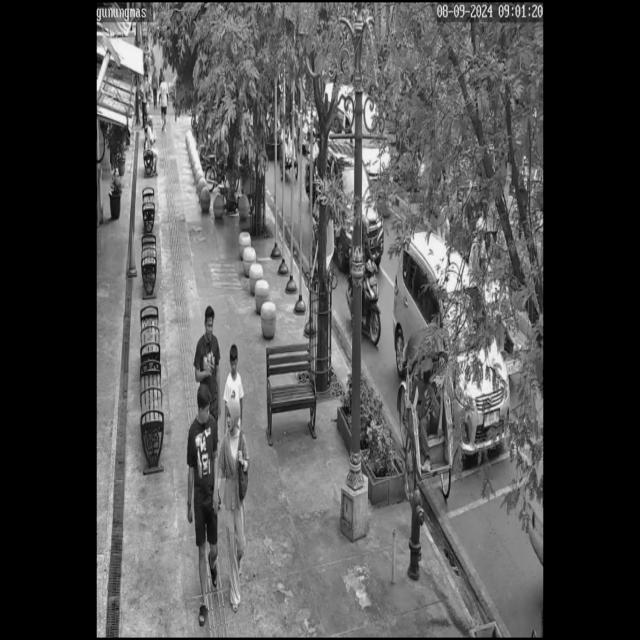Car: (392, 233, 515, 478), (311, 144, 388, 271)
Motorcycle: (347, 221, 383, 356)
